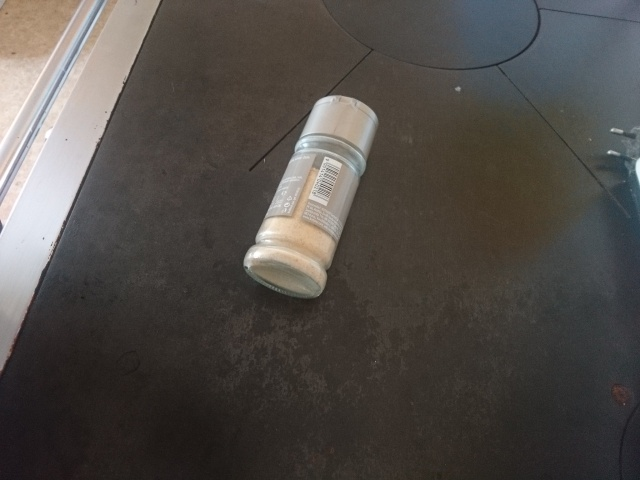Kotanyi Garlic Granules 70g: (239, 92, 382, 302)
